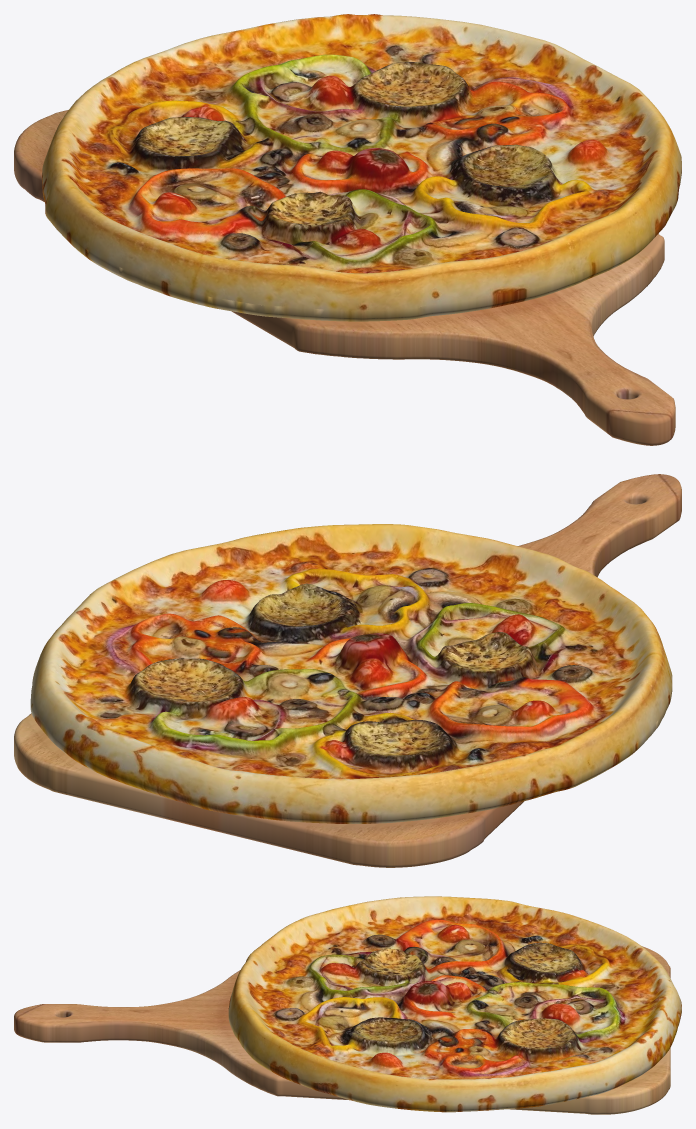
Rendered from pizza-khodarji.glb.
The picture shows the model from 3 angles, top to bottom: view 1: azimuth 30°, elevation 25°; view 2: azimuth 150°, elevation 25°; view 3: azimuth 270°, elevation 25°; orthographic projection. The views are drawn at different scales.
Parts seen in each view (by area): view 1: pizza-khodarji, peel.003; view 2: pizza-khodarji, peel.003; view 3: pizza-khodarji, peel.003.
Part boxes in pixels (<box>): pizza-khodarji: <box>42,14,681,321</box>; peel.003: <box>14,110,675,445</box>; pizza-khodarji: <box>30,524,672,823</box>; peel.003: <box>14,474,681,867</box>; pizza-khodarji: <box>228,896,681,1112</box>; peel.003: <box>14,946,670,1114</box>.
Size of the model in its own units: 0.3013 by 0.0381 by 0.44.
2 materials, 2 textured.
